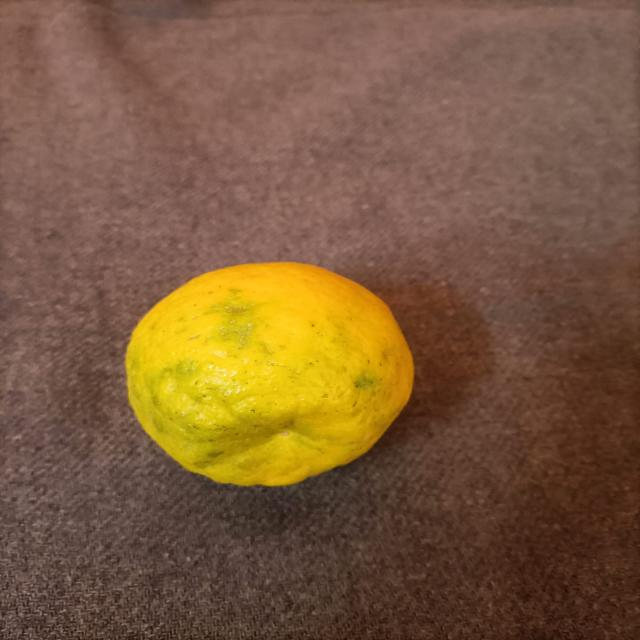orange: (41, 191, 455, 598)
